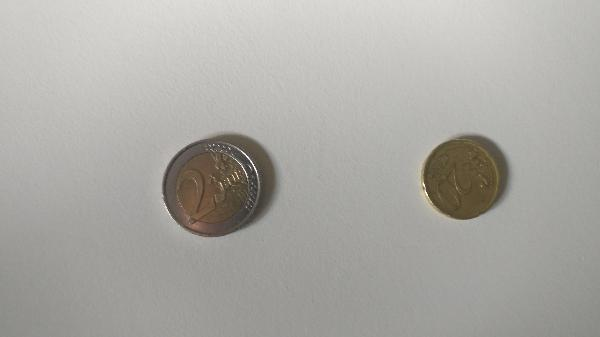Twenty Cent: (421, 140, 505, 221)
Two Euro: (161, 143, 260, 238)
